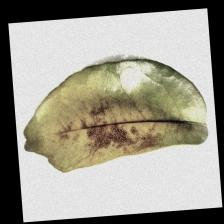canker: (49, 103, 191, 160)
